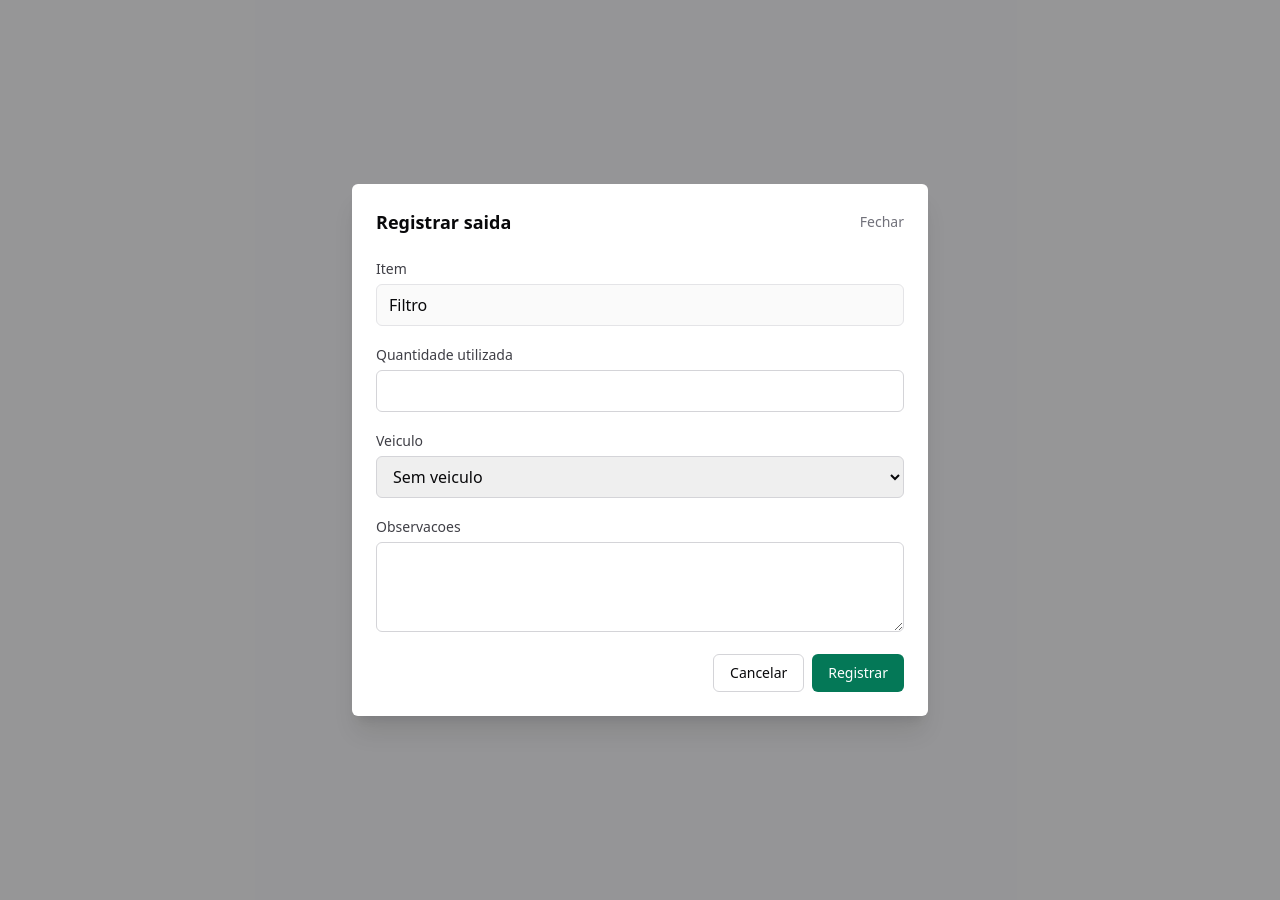
Test case: RegistrarSaidaModal › valida quantidade maior que zero
Type "0" into the number field labelled "Quantidade utilizada" at [640, 391], box [376, 370, 904, 412]
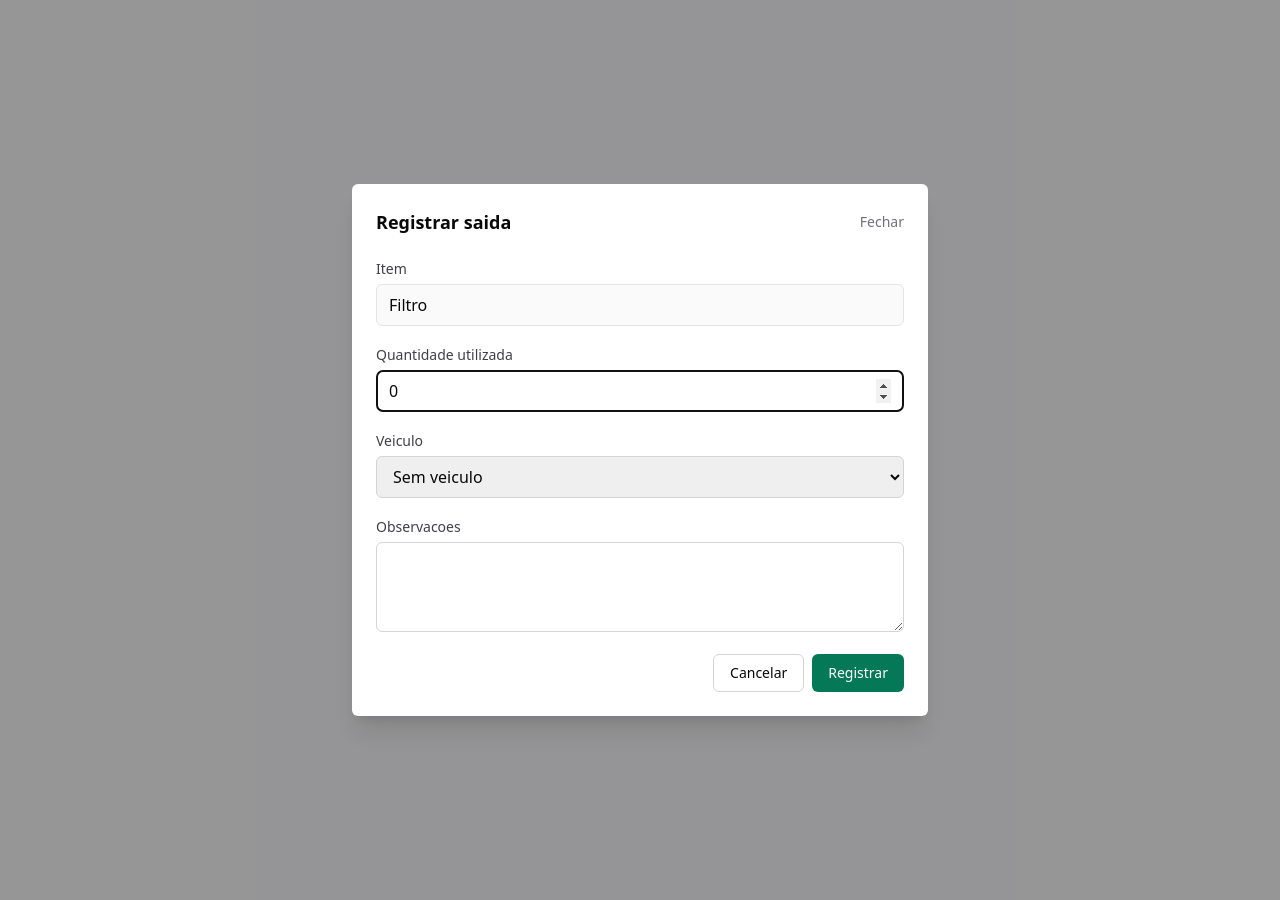
Click the button "Registrar" at [858, 673], box [812, 654, 904, 692]
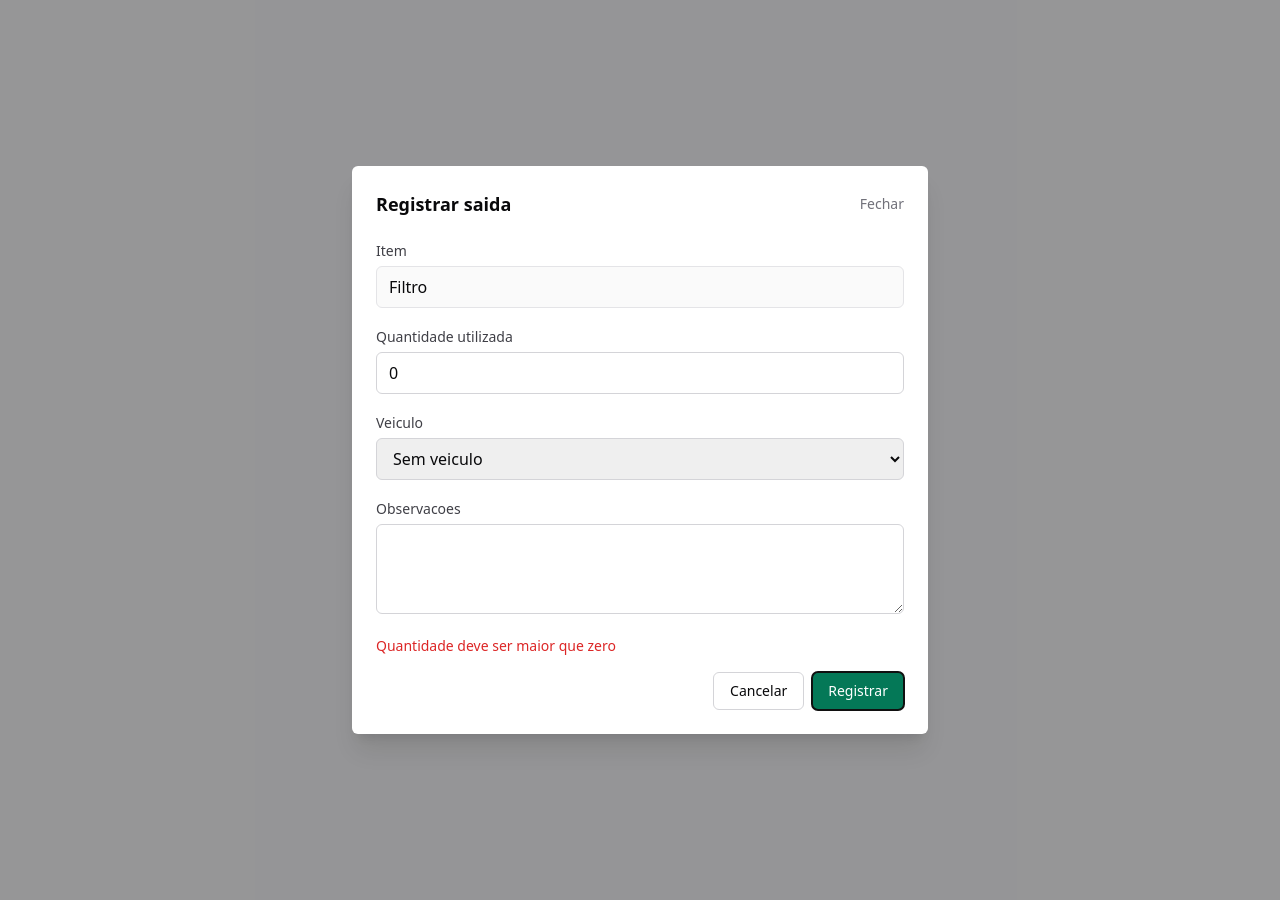
Expected: the text "Quantidade deve ser maior que zero" is shown, [376, 636, 616, 655]
